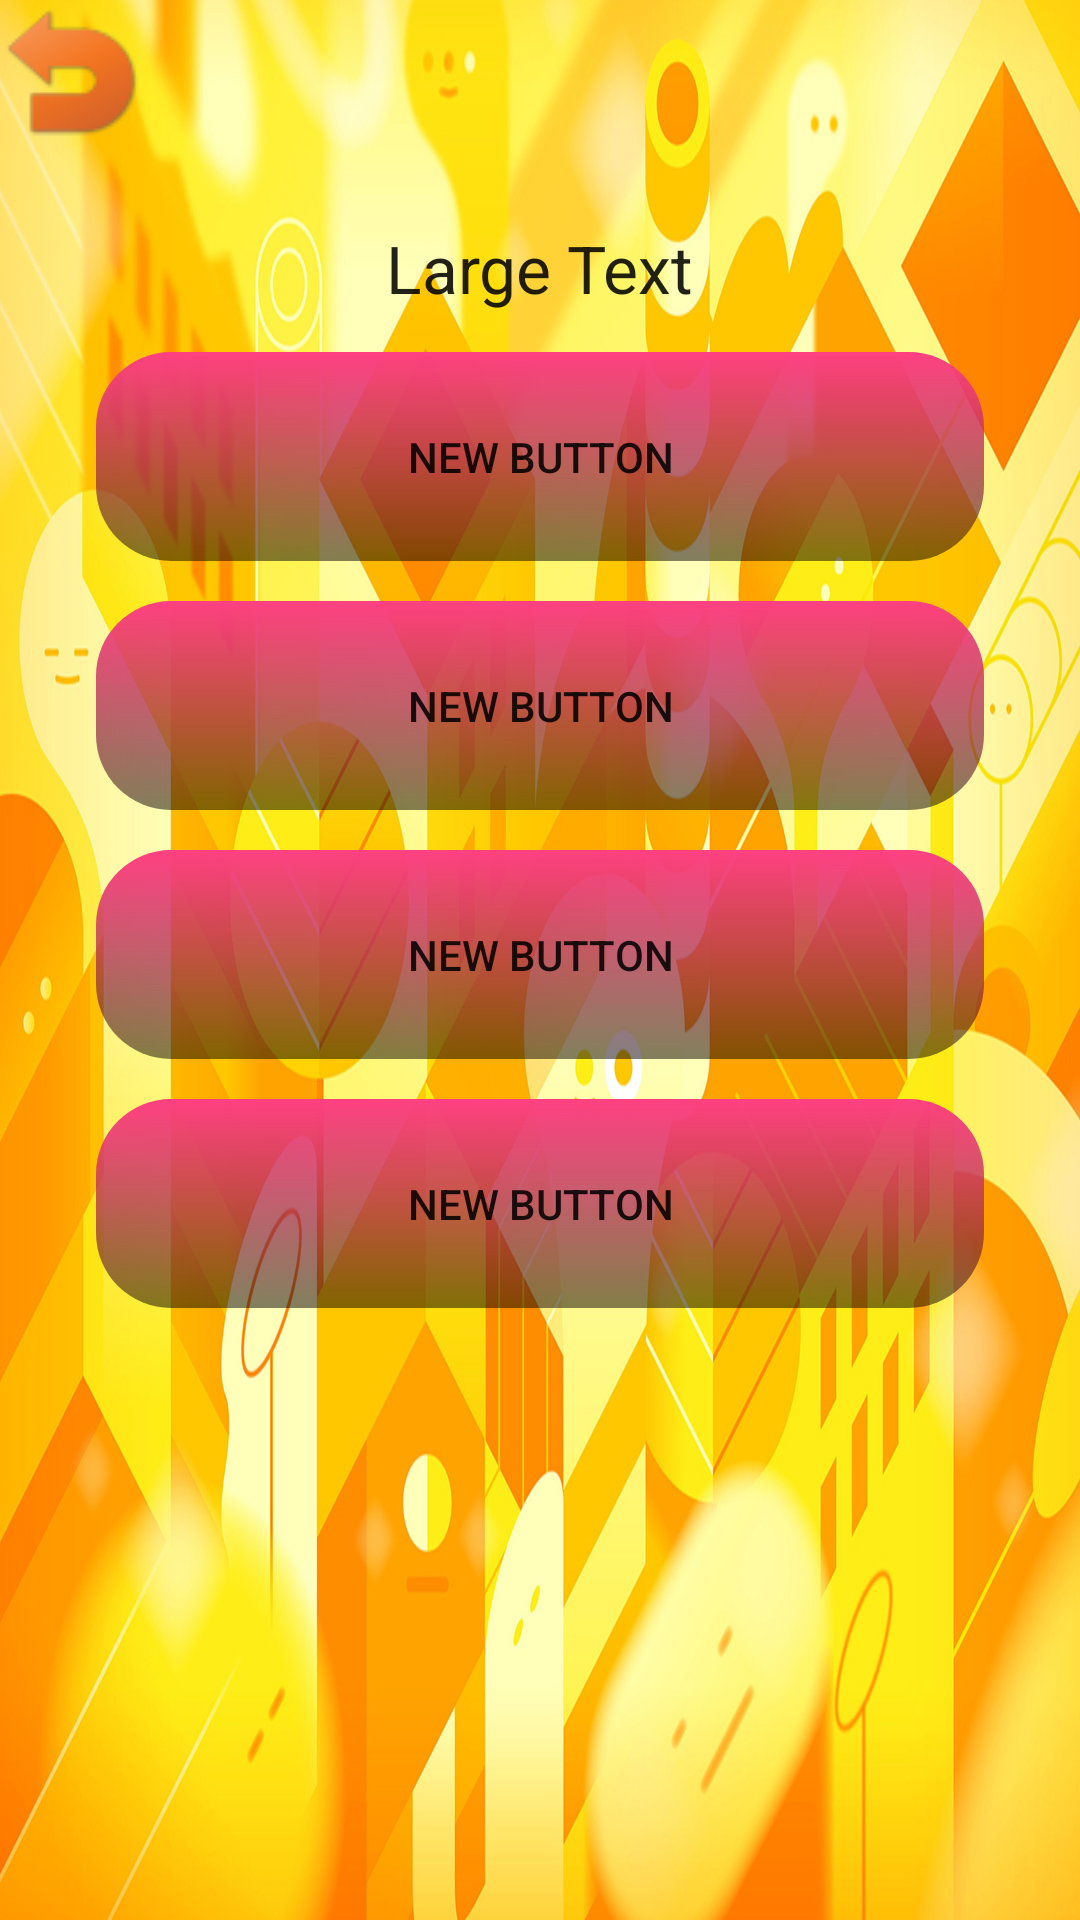

Named icons in this screenshot (1080x1920) and their centers, (x=x, y=y):
volver: (x=72, y=72)
